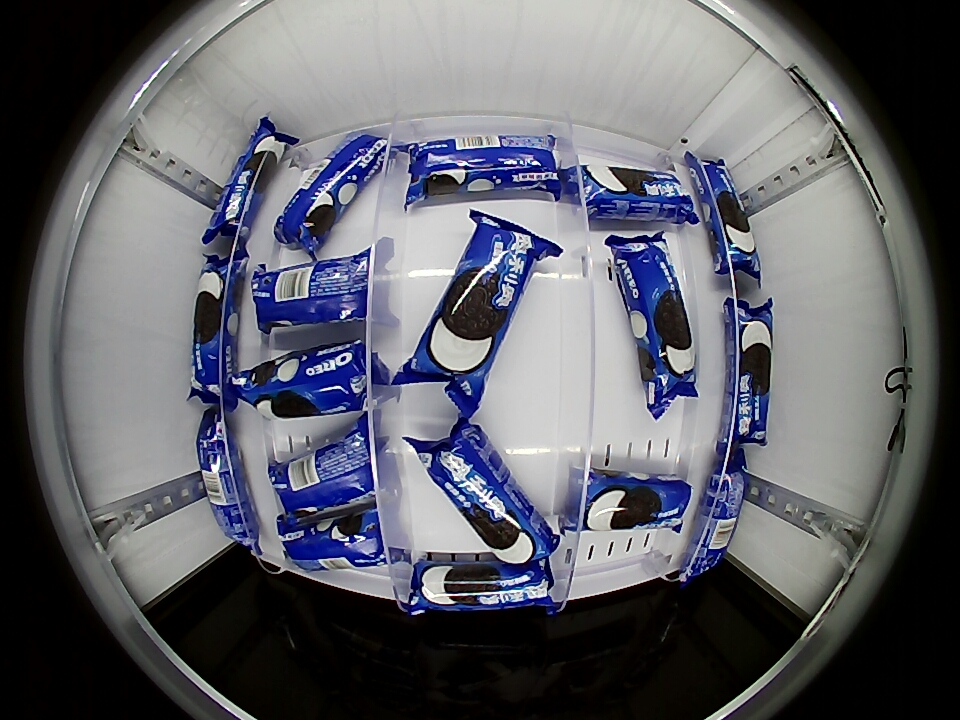aoliao: (410, 225, 539, 399), (423, 426, 556, 568), (272, 125, 380, 254), (617, 234, 698, 393), (211, 122, 288, 251), (245, 341, 369, 417), (268, 435, 378, 518), (409, 132, 555, 194), (407, 557, 556, 614), (197, 418, 256, 557), (574, 160, 695, 226), (253, 260, 365, 330), (692, 158, 757, 276), (190, 259, 238, 407), (575, 474, 690, 532), (693, 463, 747, 585), (272, 520, 390, 574), (728, 303, 772, 446)
